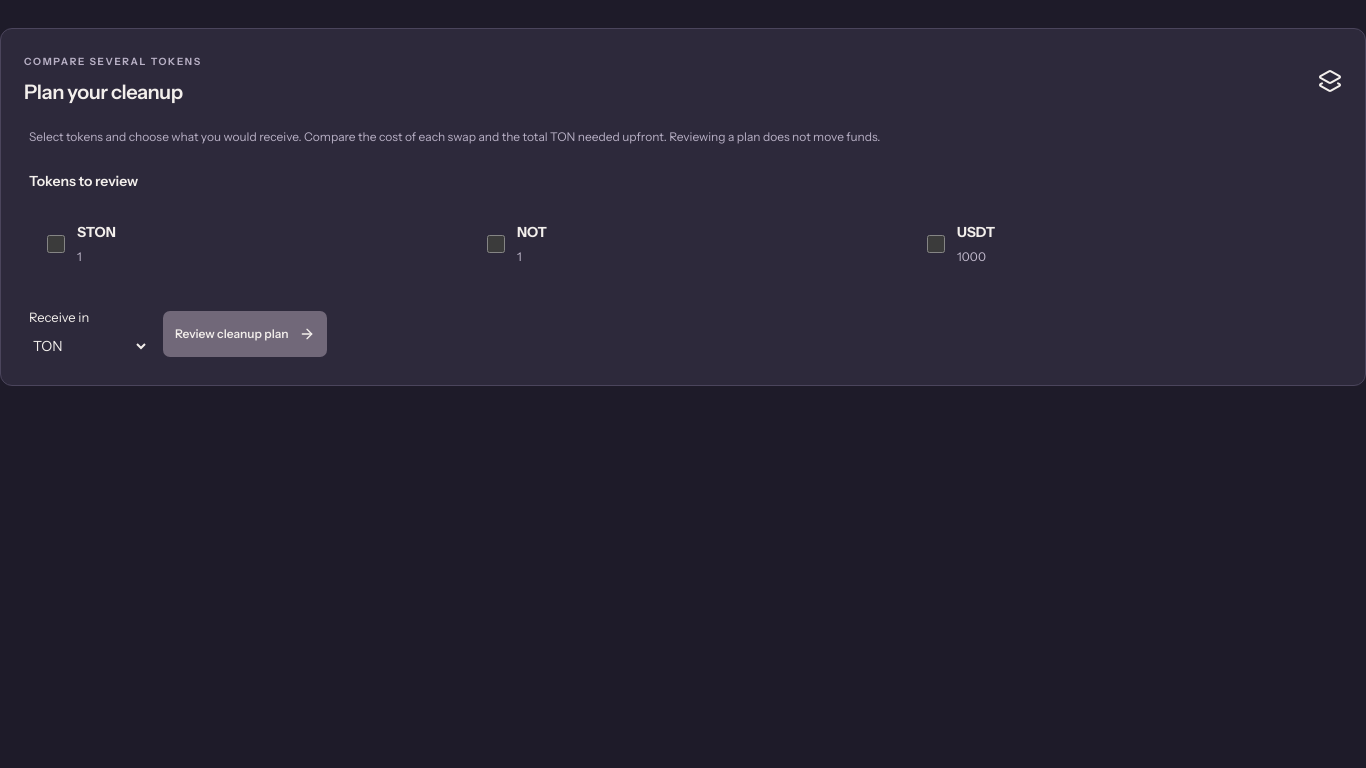
Test: reports quote failure for one asset while keeping the other result
The width and height of the screenshot is (1366, 768).
Click the checkbox named "Plan STON" at (56, 244), box x1=47 y1=235 x2=65 y2=253
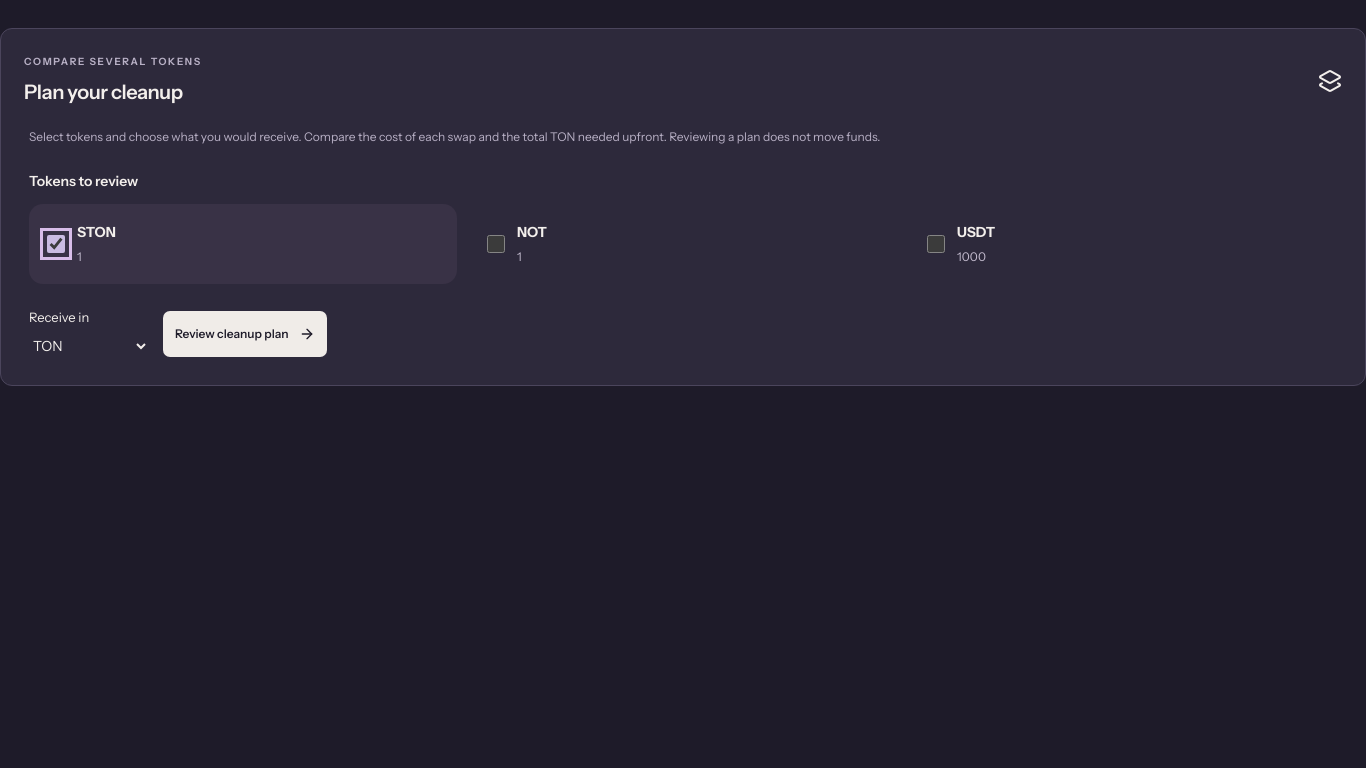
Click the checkbox named "Plan NOT" at (496, 244), box x1=487 y1=235 x2=505 y2=253
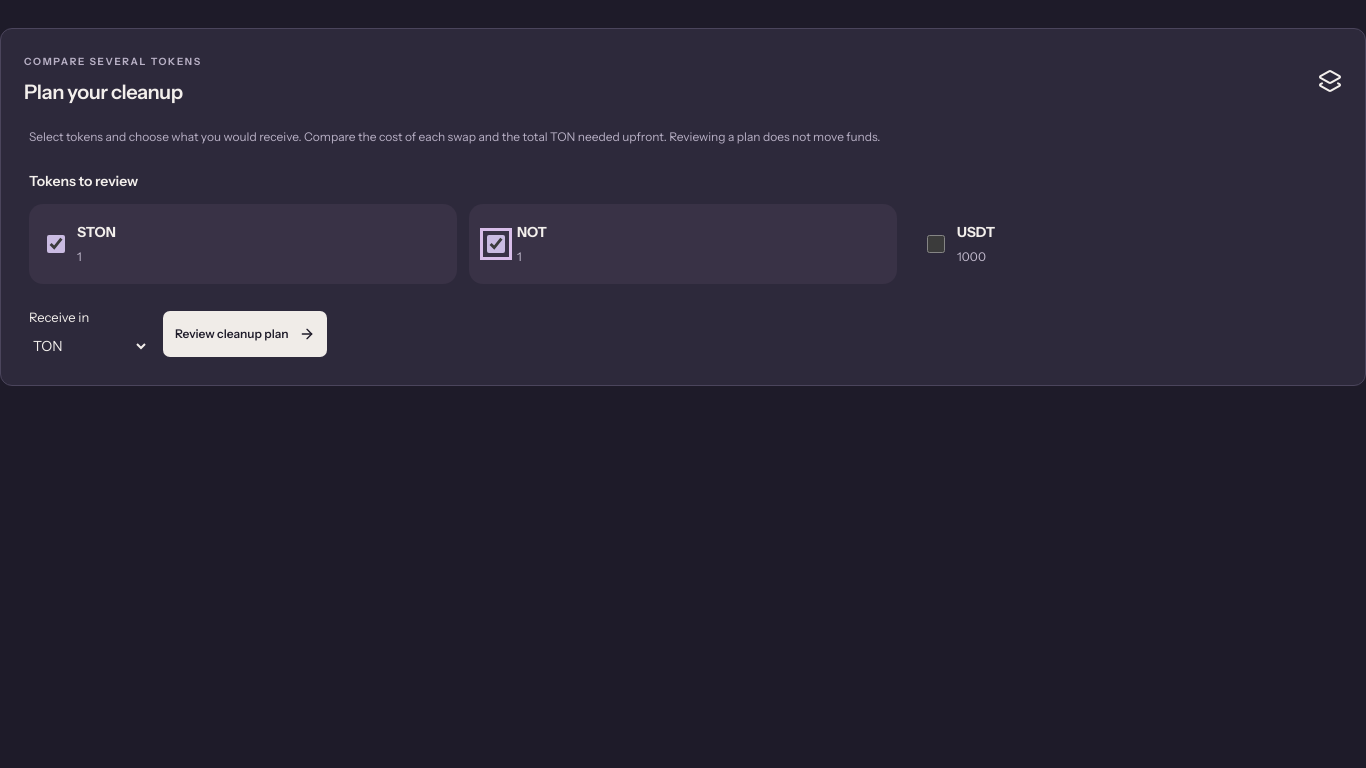
Click the button "Review cleanup plan" at (245, 334), box x1=163 y1=311 x2=327 y2=357
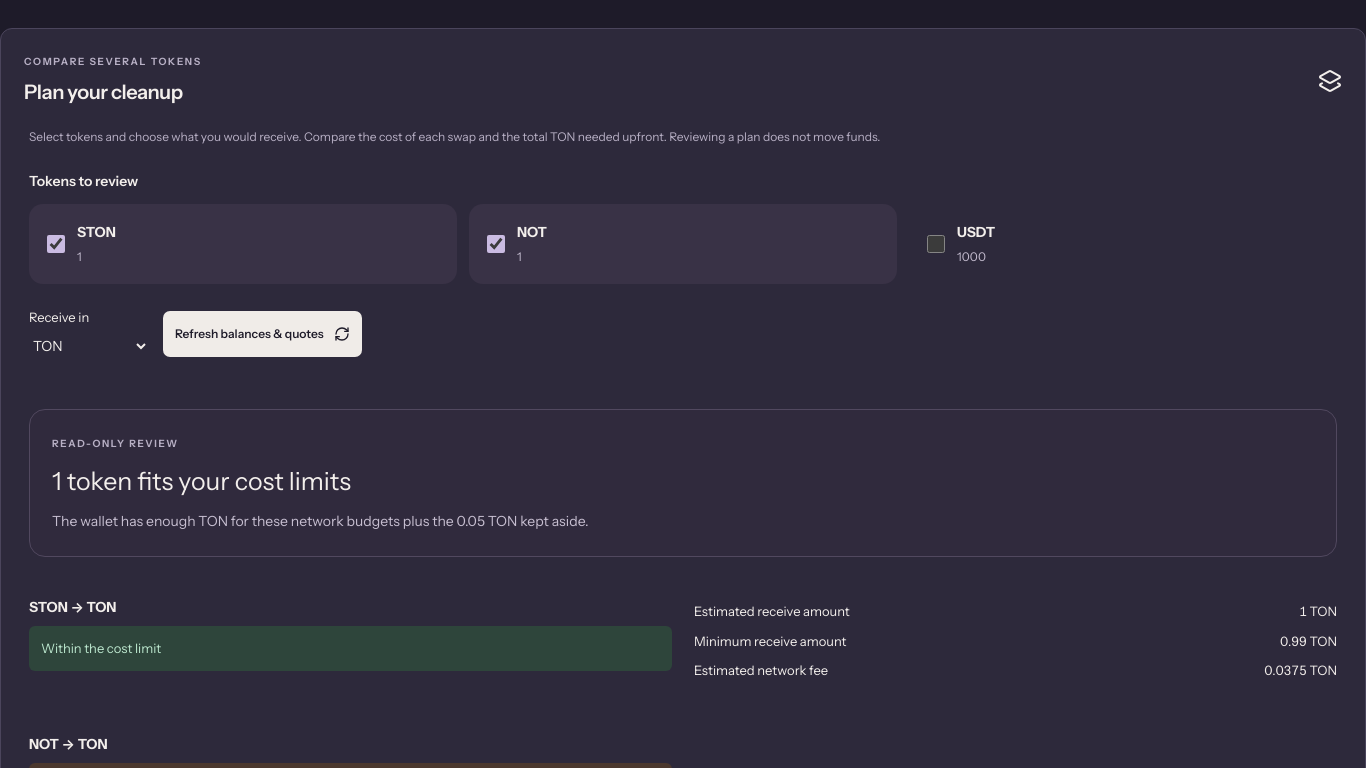
expect the text "Within the cost limit" is shown: met, box x1=29 y1=626 x2=672 y2=671
